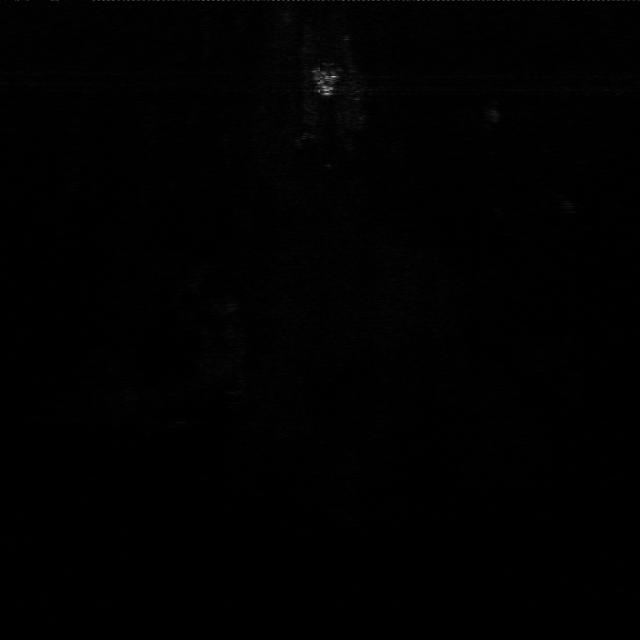rov: (308, 68, 341, 98)
